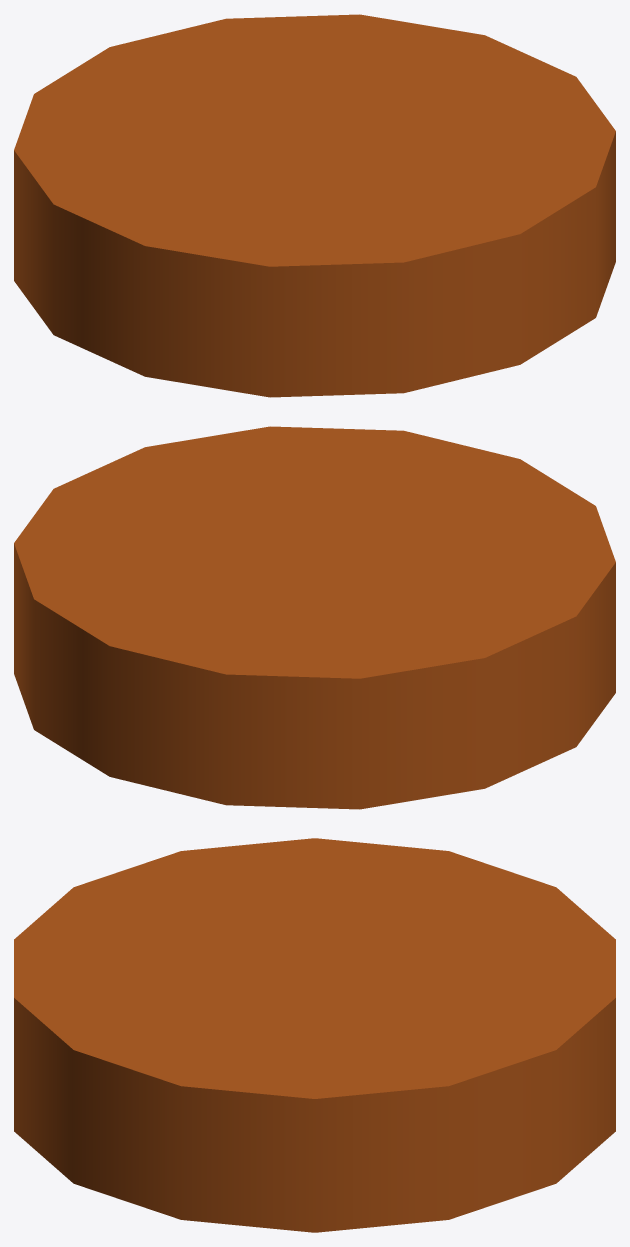
Rendered from conserv2.FBX.
3 views of the same model, one above another, from view 1: azimuth 30°, elevation 25°; view 2: azimuth 150°, elevation 25°; view 3: azimuth 270°, elevation 25° (orthographic). The views are drawn at different scales.
Visible parts, largest first — view 1: sadasd; view 2: sadasd; view 3: sadasd.
Boxes of the visible parts, x1,y1,x2,y2 form: sadasd: (14,14,615,397); sadasd: (14,426,615,809); sadasd: (14,838,615,1232).
Bounding box in the file's own units: 56.71 × 55.29 × 13.55.
